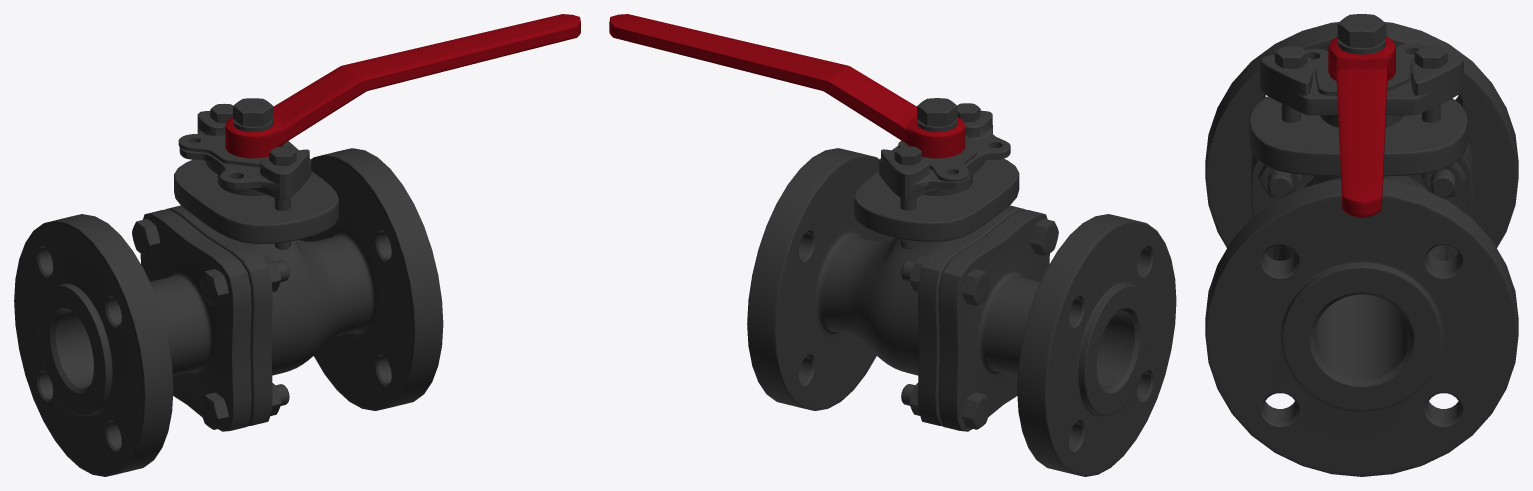
File: ValveDN40.fbx
3 views of the same model, side by side, from view 1: azimuth 30°, elevation 25°; view 2: azimuth 150°, elevation 25°; view 3: azimuth 270°, elevation 25° (orthographic). The views are drawn at different scales.
Parts seen in each view (by area): view 1: Cylinder002, Cylinder003, Cylinder006, Cylinder005, 最简外六方908, SShape001, 最简外六方910, 最简外六方906, 最简外六方909, 最简外六方907; view 2: Cylinder002, Cylinder003, Cylinder006, Cylinder005, 最简外六方909, 最简外六方906, 最简外六方911, SShape001, 最简外六方908, 最简外六方905; view 3: Cylinder003, Cylinder002, Cylinder006, Cylinder005, 最简外六方906, SShape001, 最简外六方909, 最简外六方908, 最简外六方907, 最简外六方905.
Part boxes in pixels (box(x1,y1,x2,y2)): Cylinder002: box(14, 209, 251, 476); Cylinder003: box(165, 148, 443, 426); Cylinder006: box(225, 14, 580, 158); Cylinder005: box(179, 111, 311, 199); 最简外六方908: box(200, 256, 289, 306); SShape001: box(178, 134, 298, 167); 最简外六方910: box(200, 383, 289, 429); 最简外六方906: box(233, 98, 273, 132); 最简外六方909: box(132, 219, 160, 256); 最简外六方907: box(269, 146, 296, 249); Cylinder002: box(938, 209, 1176, 476); Cylinder003: box(747, 148, 1024, 426); Cylinder006: box(609, 14, 965, 158); Cylinder005: box(879, 110, 1010, 199); 最简外六方909: box(901, 256, 990, 305); 最简外六方906: box(917, 98, 957, 131); 最简外六方911: box(901, 383, 990, 429); SShape001: box(898, 135, 976, 182); 最简外六方908: box(1030, 218, 1058, 256); 最简外六方905: box(894, 146, 921, 249); Cylinder003: box(1205, 96, 1518, 476); Cylinder002: box(1205, 22, 1518, 247); Cylinder006: box(1328, 36, 1395, 217); Cylinder005: box(1260, 48, 1463, 127); 最简外六方906: box(1337, 14, 1386, 54); SShape001: box(1315, 43, 1426, 95); 最简外六方909: box(1421, 162, 1464, 198); 最简外六方908: box(1258, 165, 1301, 198); 最简外六方907: box(1275, 46, 1307, 122); 最简外六方905: box(1414, 46, 1447, 122).
Size of the model in its own units: 287 by 178 by 129.
